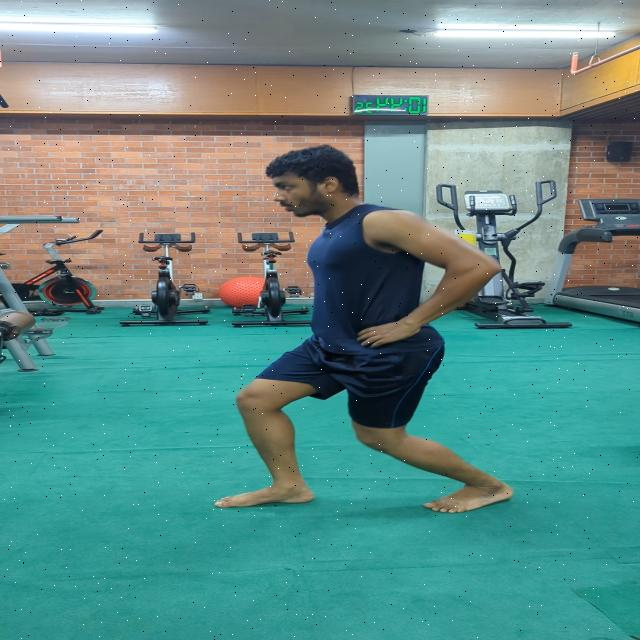Normal_Lunges: (201, 137, 524, 515)
